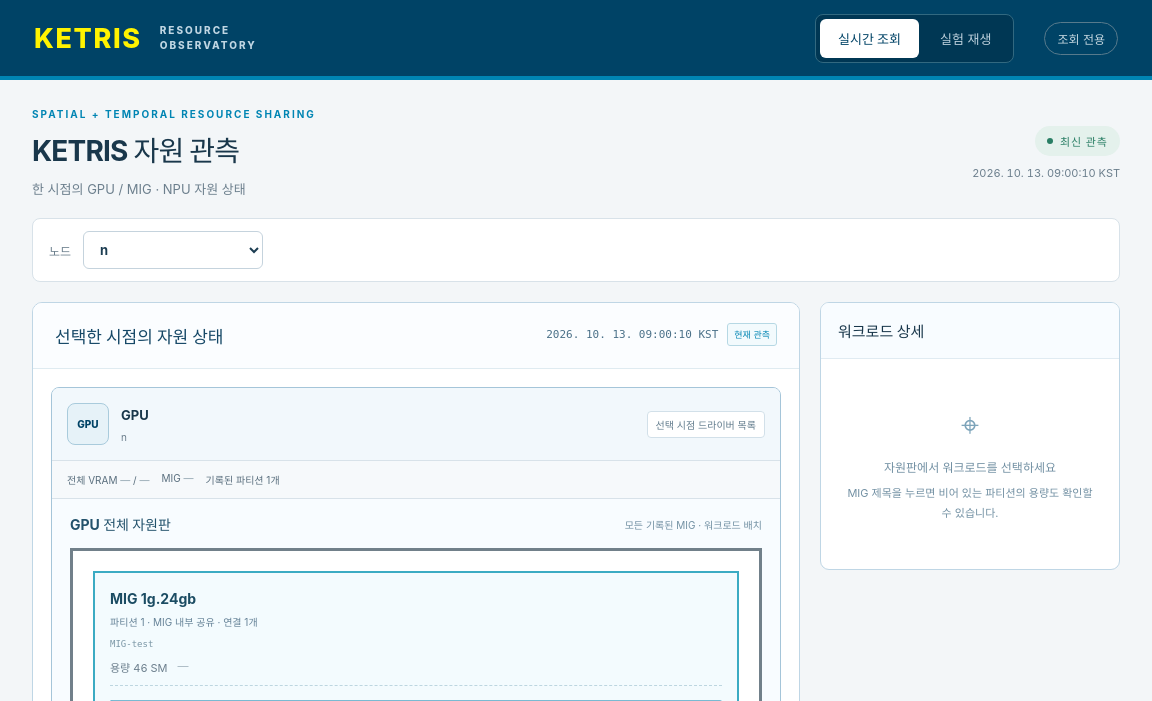
Scenario: recovers a failed experiment list without live polling hiding the failure
Click the button "실험 재생" at (966, 38), box [922,18,1010,58]
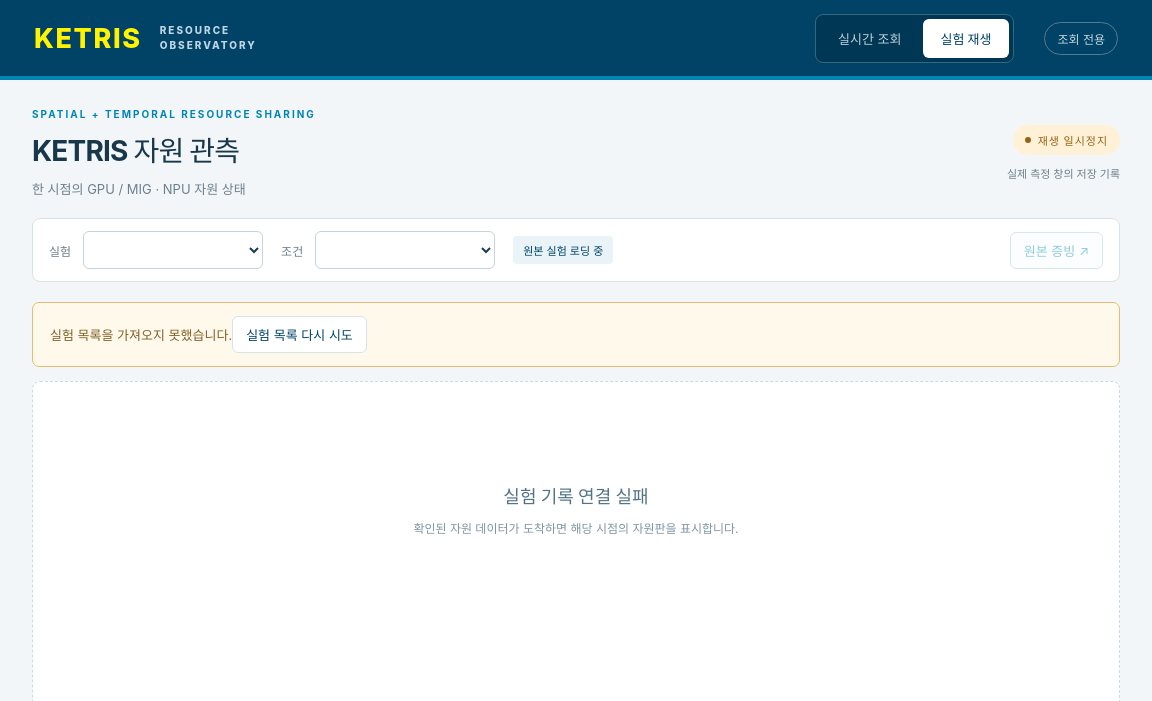
Result: the text "실험 목록을 가져오지 못했습니다." is shown at [50,327,232,343]
Click the button "실험 목록 다시 시도" at (300, 334), box [232,316,367,353]
(page scrolled)
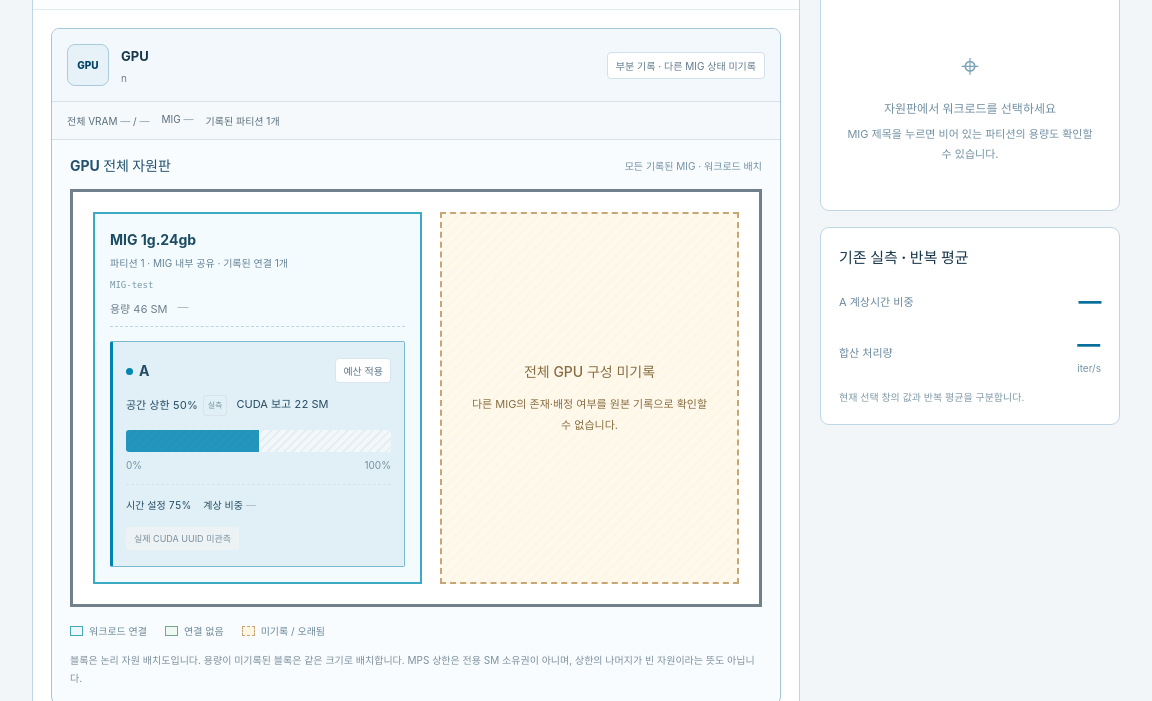
Result: the text "실험 목록을 가져오지 못했습니다." is gone
